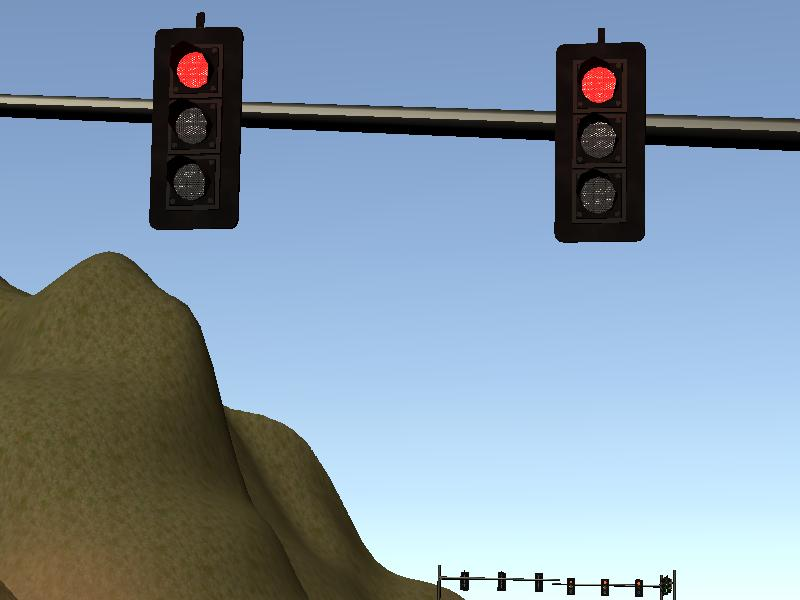red: (552, 42, 649, 245), (153, 27, 239, 227)
